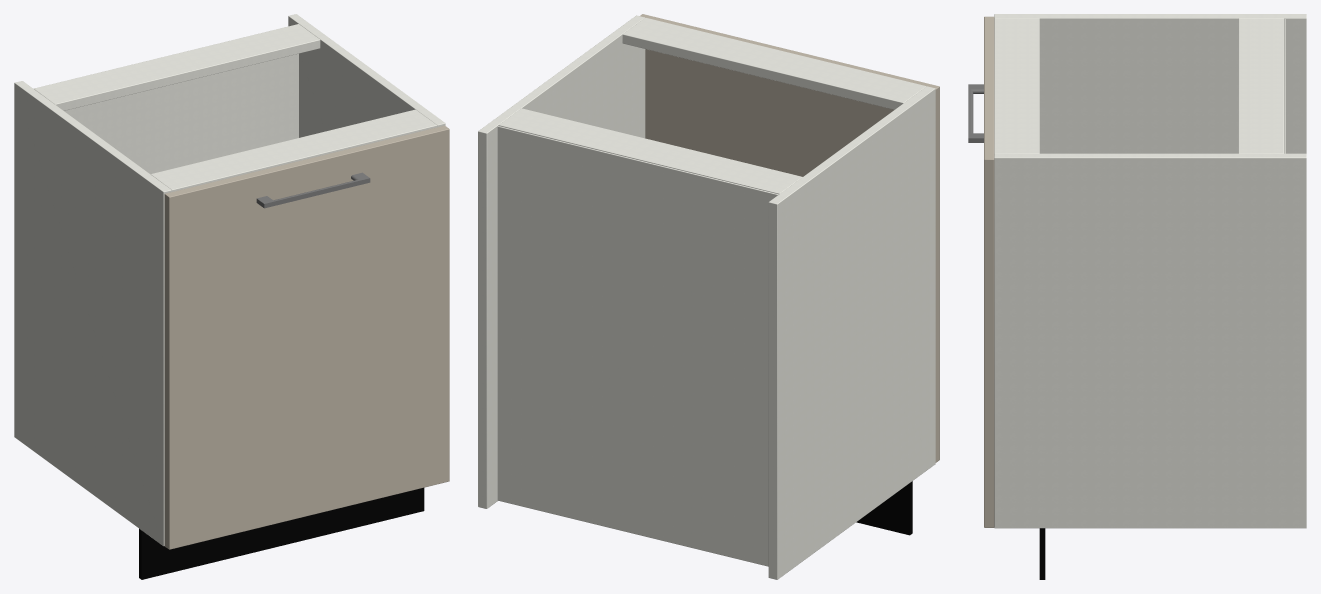
3 renders of one model, left to right at view 1: azimuth 30°, elevation 25°; view 2: azimuth 150°, elevation 25°; view 3: azimuth 270°, elevation 25°, orthographic. The views are drawn at different scales.
Parts seen in each view (by area): view 1: r11, Stranica Leva, Leđa, Vezna Zadnja H, Stranica Desna, Vezna Prednja H, Union; view 2: Leđa, Stranica Leva, r11, Stranica Desna, Vezna Prednja H, Vezna Zadnja H; view 3: Stranica Desna, Stranica Leva, Vezna Zadnja H, Vezna Prednja H, r11, Union.
Part boxes in pixels (box(x1,y1,x2,y2)): r11: box(139, 125, 449, 579); Stranica Leva: box(14, 81, 171, 546); Leđa: box(64, 53, 298, 174); Vezna Zadnja H: box(34, 24, 320, 110); Stranica Desna: box(288, 14, 445, 137); Vezna Prednja H: box(150, 109, 437, 191); Union: box(256, 172, 370, 208); Leđa: box(497, 126, 778, 566); Stranica Leva: box(768, 86, 935, 579); r11: box(640, 14, 939, 535); Stranica Desna: box(478, 15, 645, 508); Vezna Prednja H: box(622, 17, 926, 109); Vezna Zadnja H: box(498, 108, 802, 194); Stranica Desna: box(994, 153, 1306, 528); Stranica Leva: box(994, 14, 1306, 153); Vezna Zadnja H: box(1238, 18, 1283, 153); Vezna Prednja H: box(994, 18, 1039, 153); r11: box(984, 16, 1045, 579); Union: box(968, 84, 983, 142).
Bounding box in the file's own units: 0.6 × 0.82 × 0.596.
Materials: 4 (2 with a texture image).
